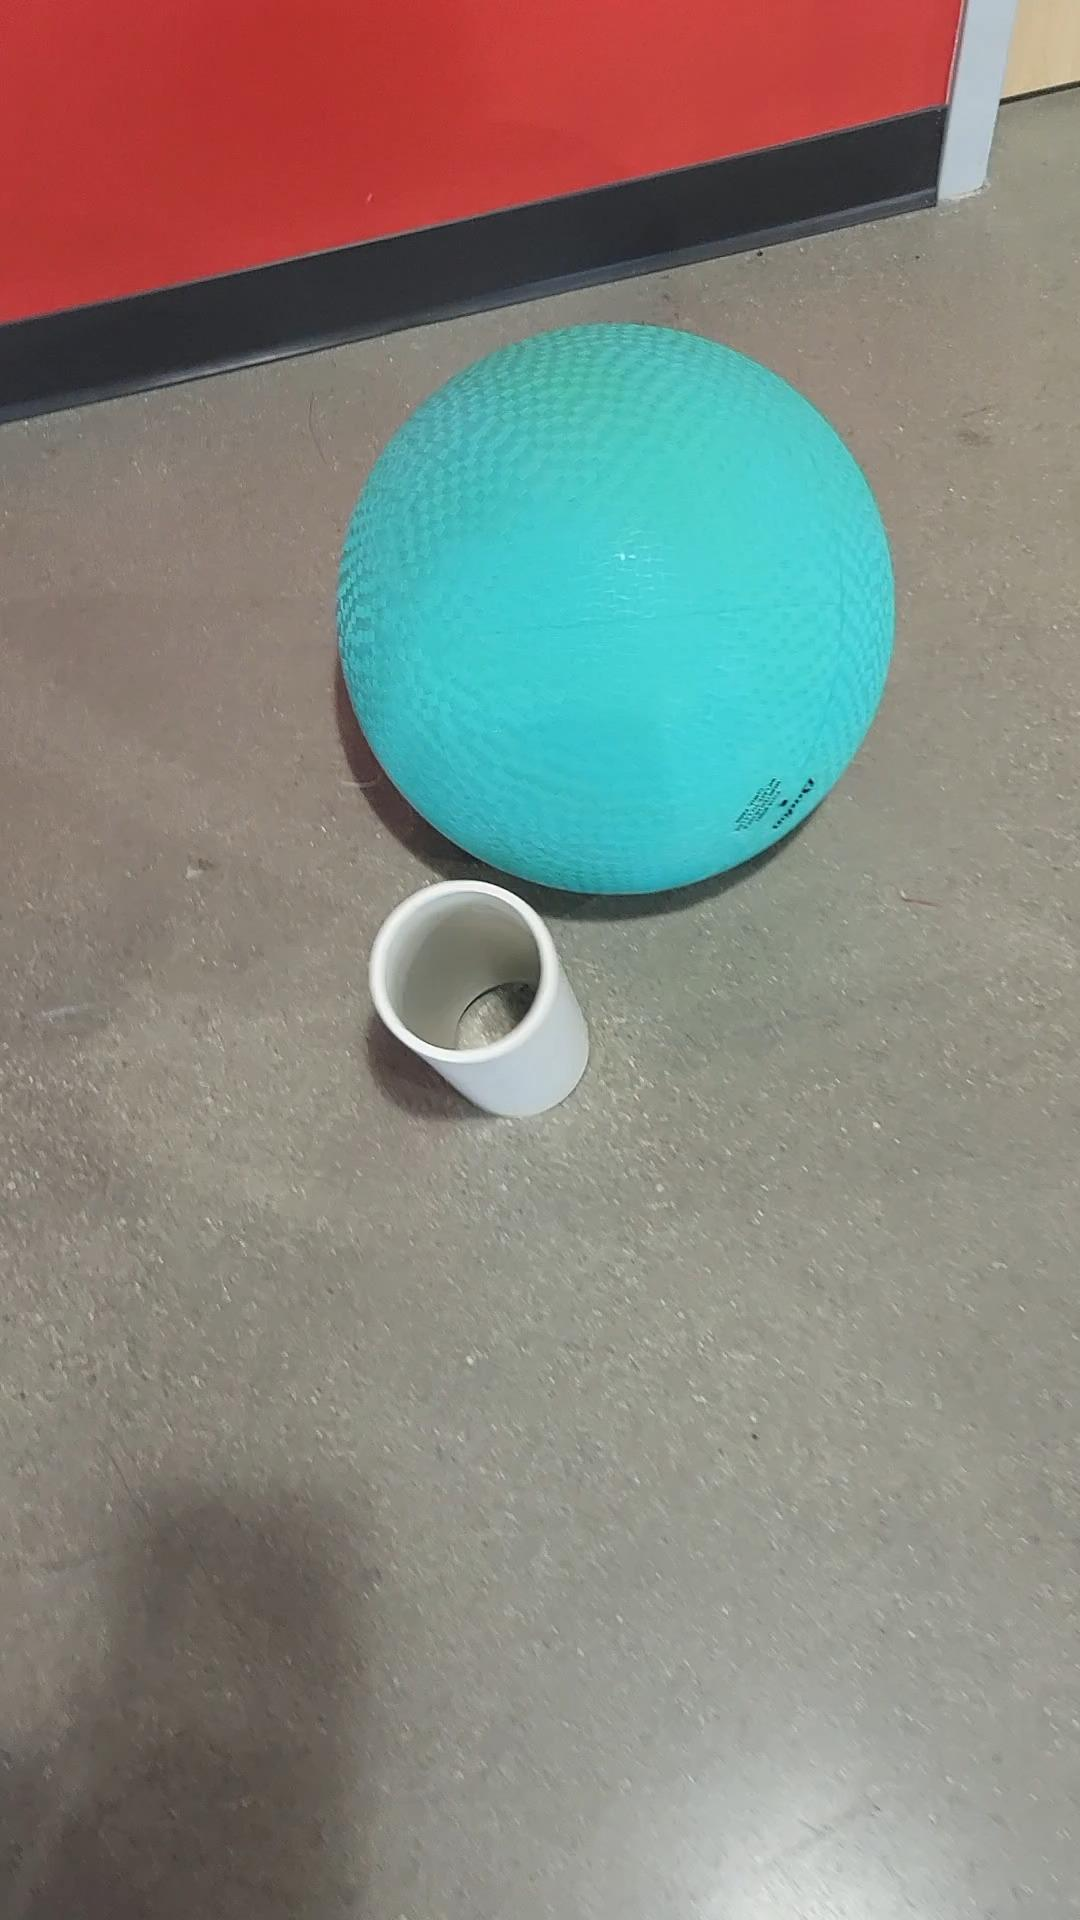algae: (320, 295, 918, 905)
coral: (367, 876, 603, 1149)
